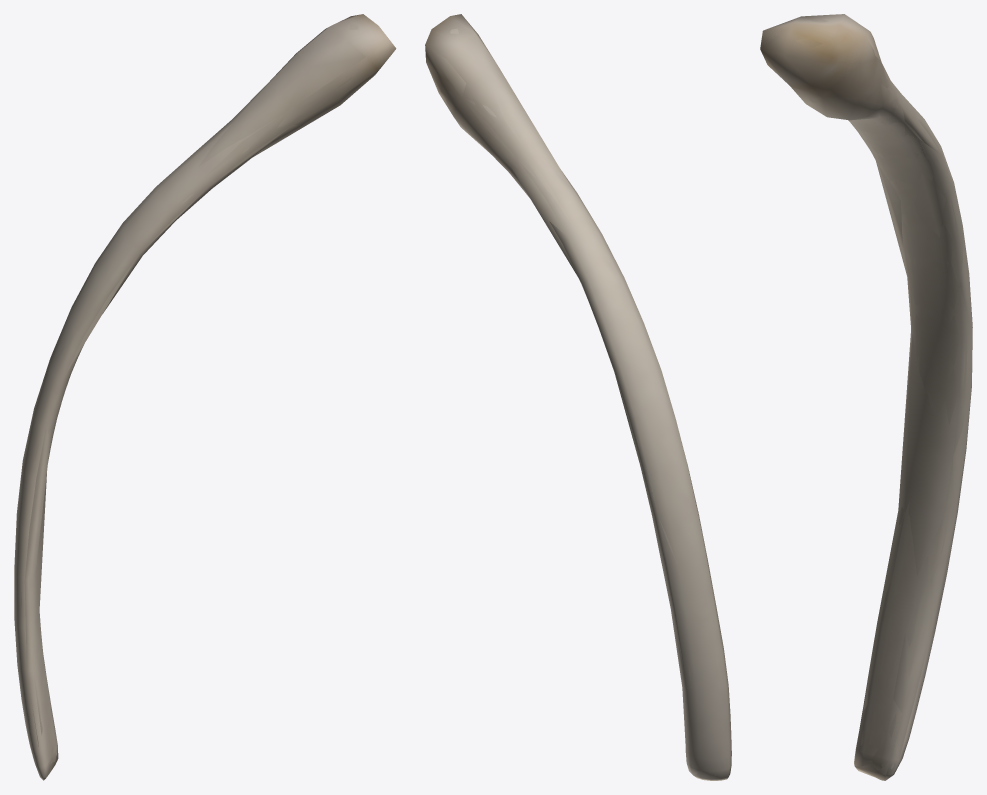
The model's file is Rib R15.fbx.
3 renders of one model, left to right at view 1: azimuth 30°, elevation 25°; view 2: azimuth 150°, elevation 25°; view 3: azimuth 270°, elevation 25°, orthographic. The views are drawn at different scales.
Parts seen in each view (by area): view 1: Rib R15, Rib R15 low, Rib R15 high; view 2: Rib R15, Rib R15 low, Rib R15 high; view 3: Rib R15, Rib R15 low, Rib R15 high.
Part boxes in pixels (box(x1,y1,x2,y2)): Rib R15: box(14, 14, 396, 780); Rib R15 low: box(15, 16, 394, 776); Rib R15 high: box(15, 24, 365, 772); Rib R15: box(425, 14, 731, 780); Rib R15 low: box(425, 25, 724, 775); Rib R15 high: box(443, 28, 729, 775); Rib R15: box(760, 14, 972, 780); Rib R15 low: box(761, 14, 972, 780); Rib R15 high: box(795, 19, 971, 769).
Bounding box in the file's own units: 5.62 × 11.25 × 2.27.
Materials: 1 (1 with a texture image).
